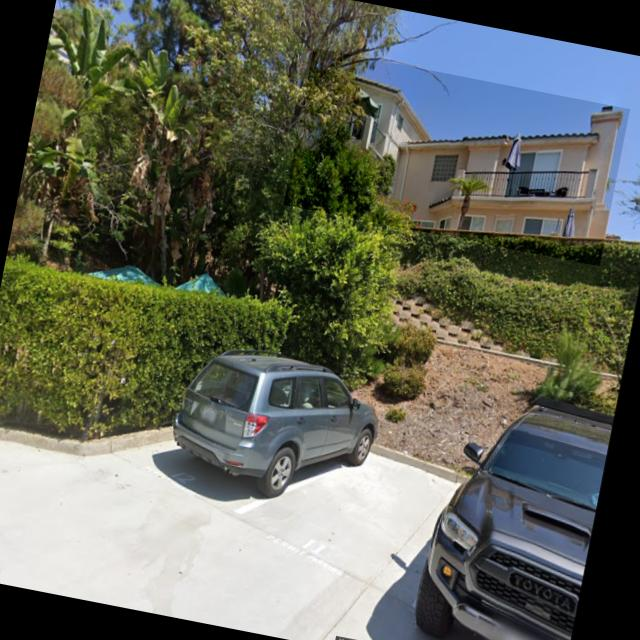House: (283, 48, 630, 266)
